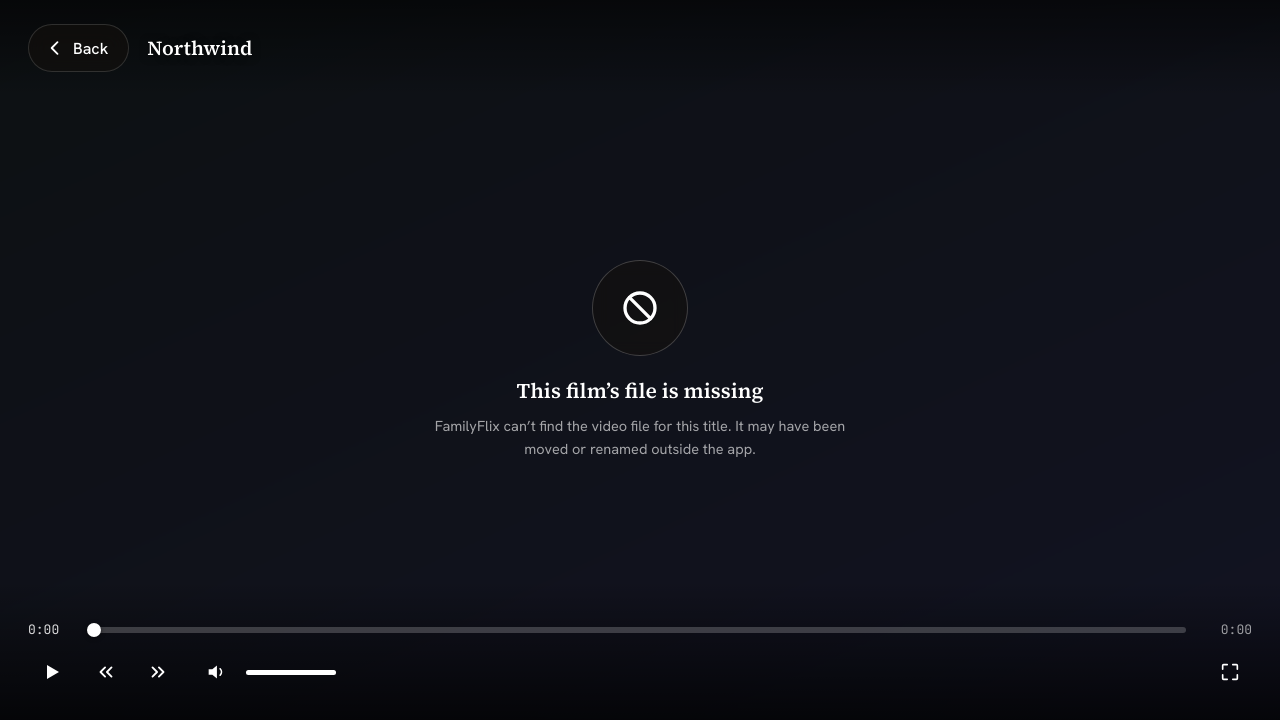
Test case: Player — a film whose file is missing › leaves a way back, so a broken film is not a screen with no exit
(page scrolled)
Expected: the text "This film’s file is missing" is shown, [516, 376, 763, 405]
Step 1. Click the button "Back" → (79, 48), box [28, 24, 129, 72]
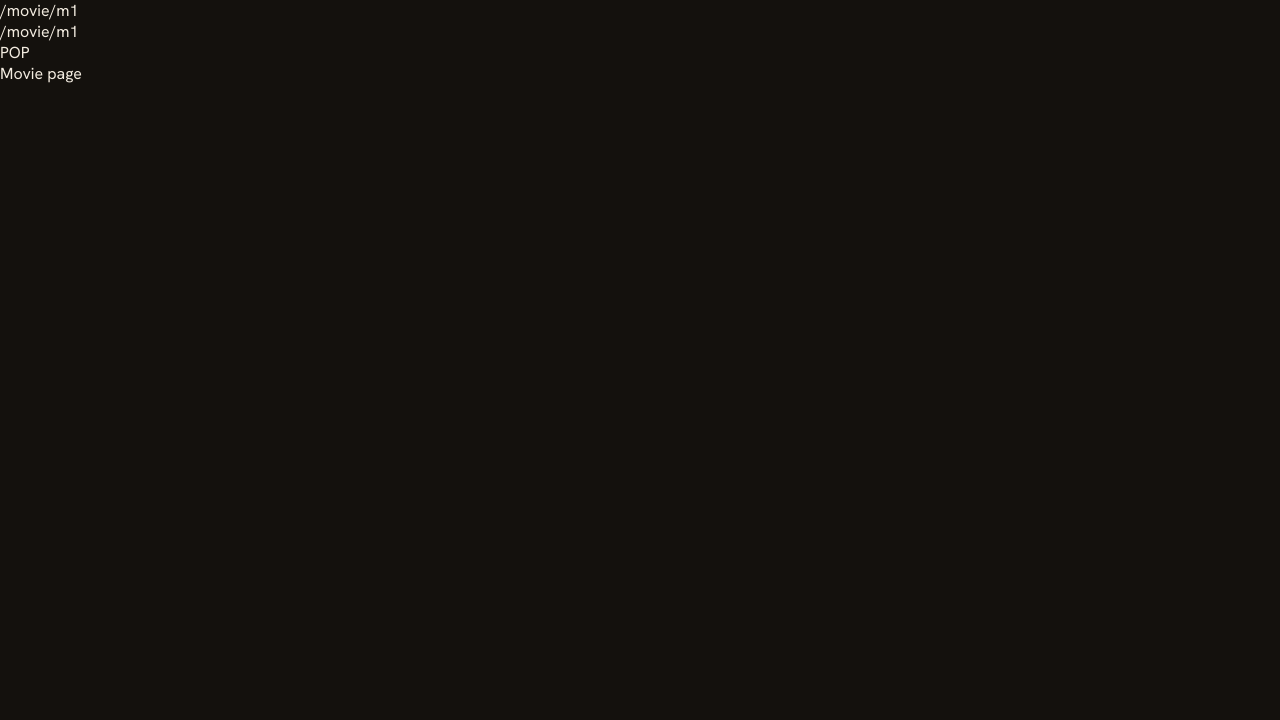
Now the text with test id "pathname" reads "/movie/m1", box [0, 0, 78, 21]
